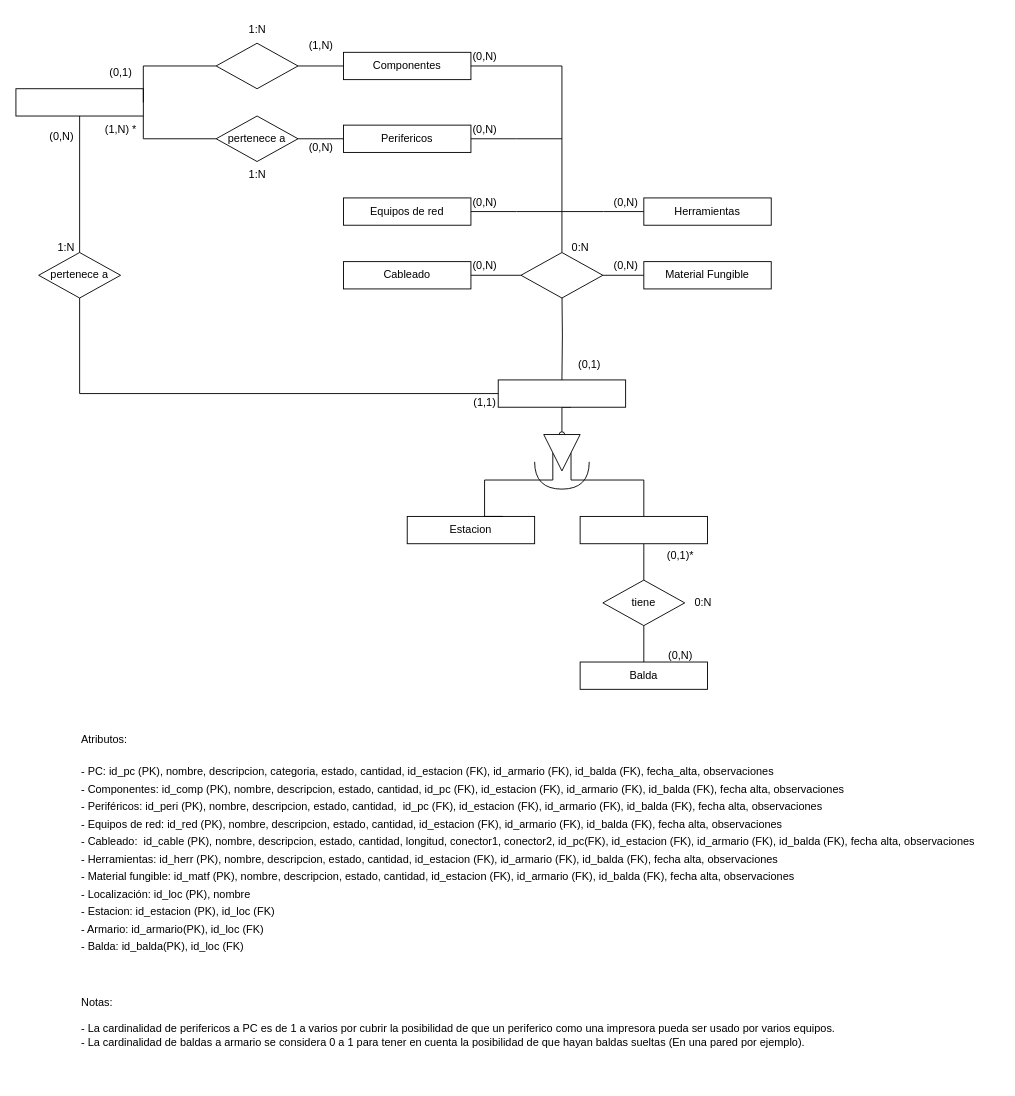
The diagram is 1015 pixels wide and 1096 high, and some of its shapes have lost their labels. The centre of each missing label's shape, as x and y in pixels:
Armario: point (643, 530)
compuesto por: point (256, 65)
guardado en: point (561, 275)
Localizacion: point (561, 393)
PC: point (79, 102)
